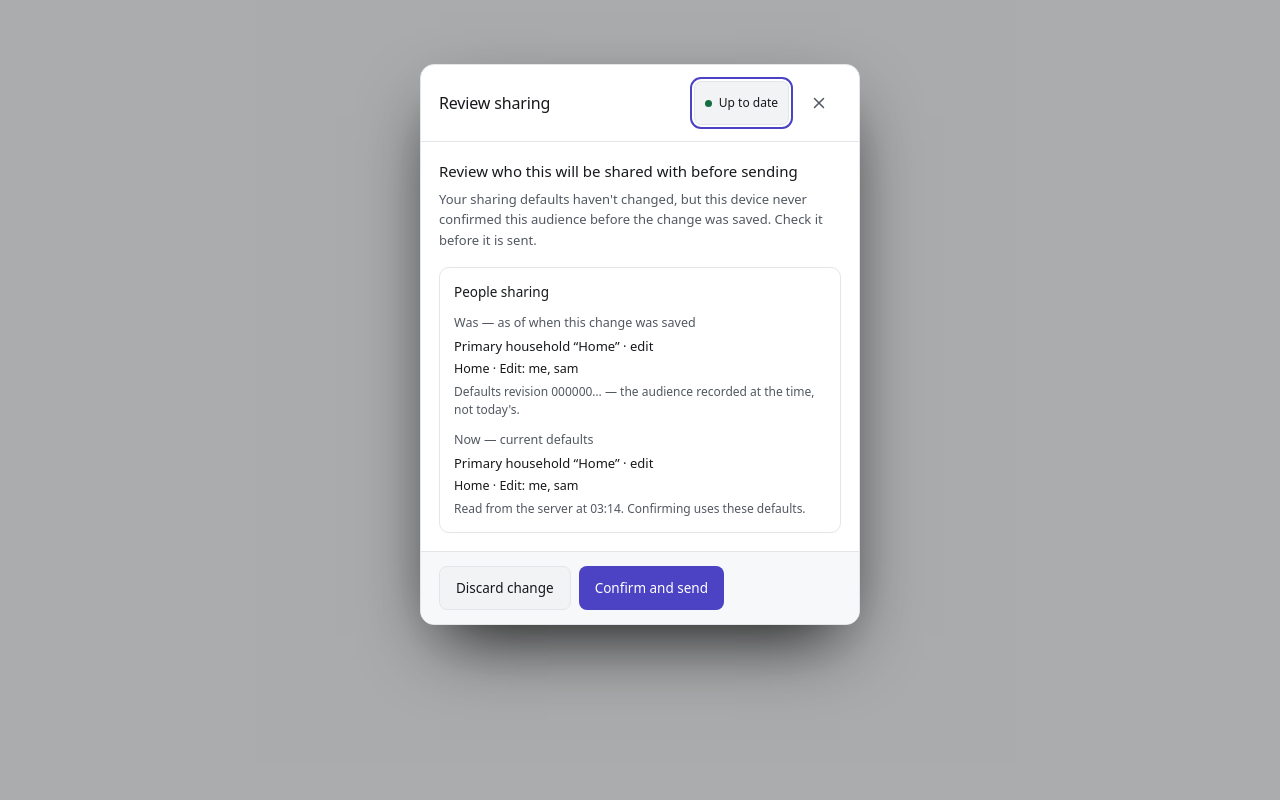
Test: Confirm and Discard › a refusal because the draft's versions moved says to review it from its own screen
Click the button "Confirm and send" at (651, 588), box [579,566,724,610]
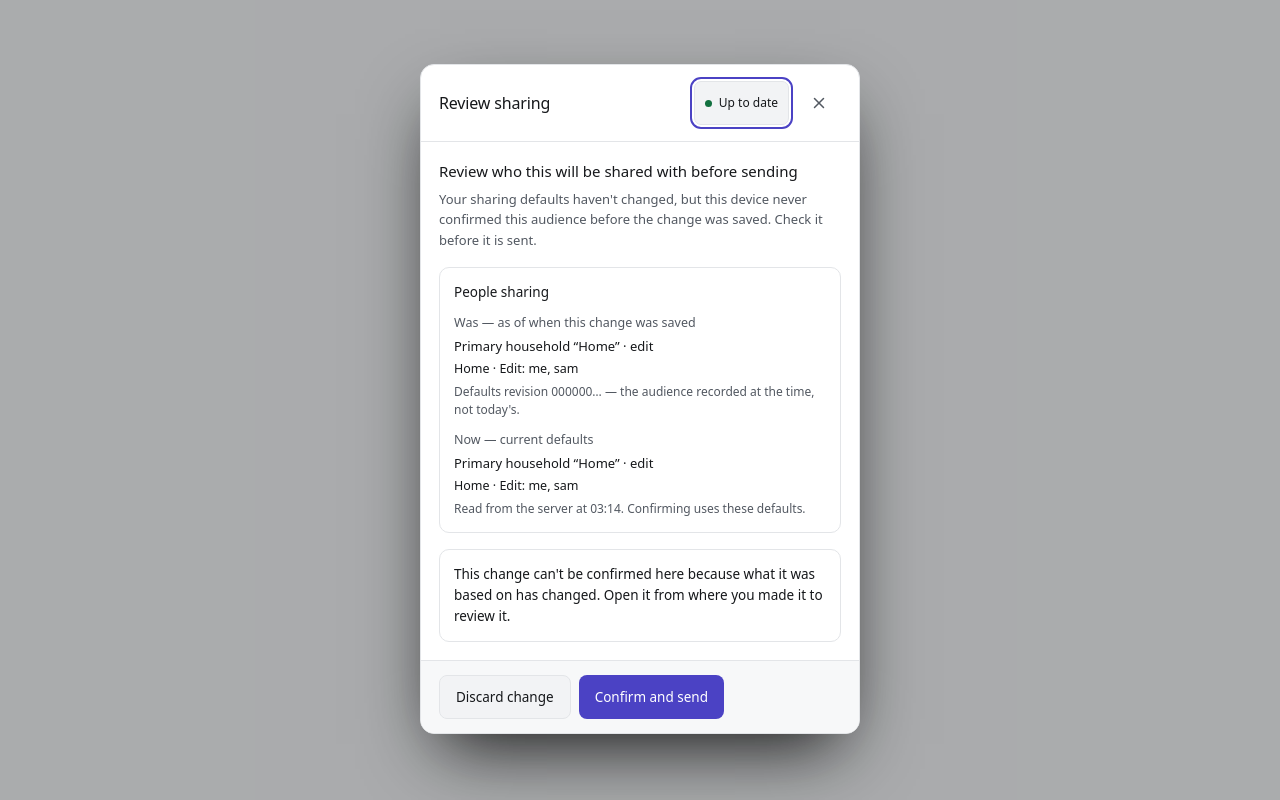
expect the text "This change can't be confirmed here because what it was based on has changed. Open it from where you made it to review i" is shown: met, box [454,565,823,625]
